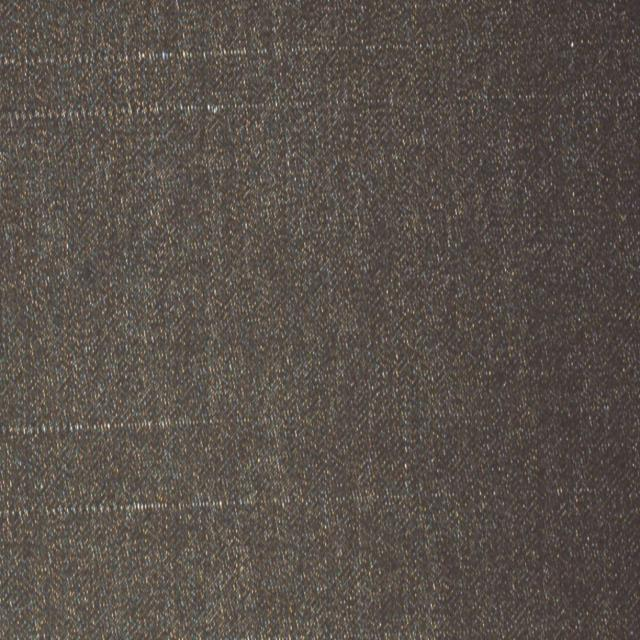Warp_Weft: (0, 30, 568, 70), (0, 488, 458, 519), (0, 96, 316, 125), (0, 413, 286, 437)
